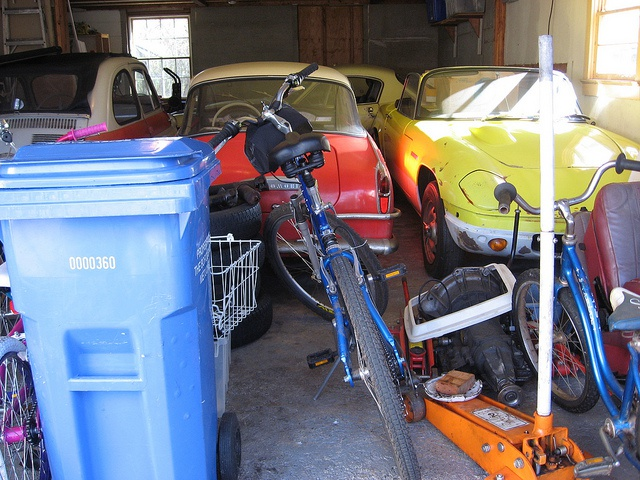non-vehicle: (271, 127, 422, 480), (502, 163, 637, 459), (1, 310, 53, 477)
